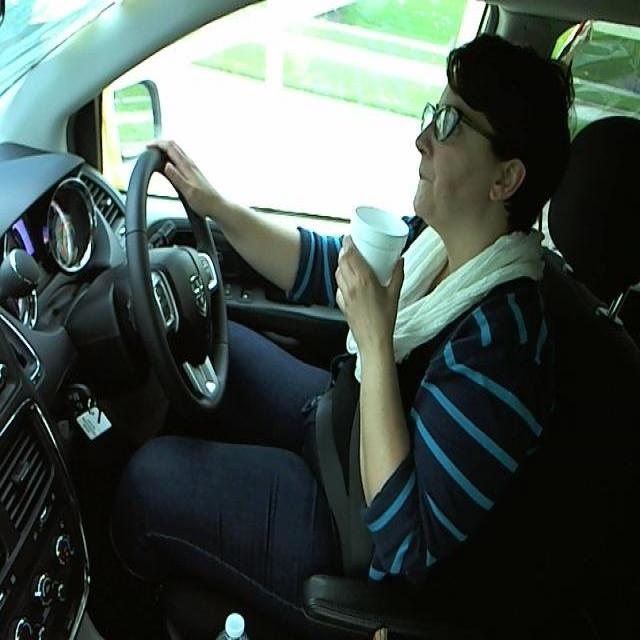drinking: (336, 202, 410, 314)
